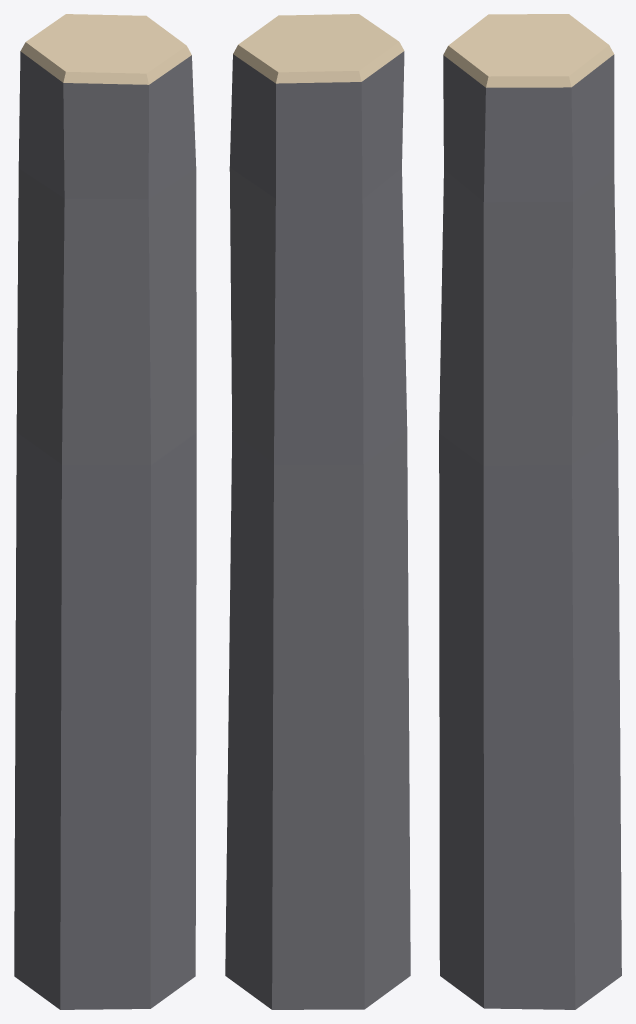
Rendered from Cave_HexColumnSand.fbx.
The picture shows the model from 3 angles, left to right: view 1: azimuth 30°, elevation 25°; view 2: azimuth 150°, elevation 25°; view 3: azimuth 270°, elevation 25°; orthographic projection.
Parts seen in each view (by area): view 1: Cave_HexColumnSand; view 2: Cave_HexColumnSand; view 3: Cave_HexColumnSand.
Part boxes in pixels (x1,y1,x2,y2): Cave_HexColumnSand: [14, 14, 196, 1009]; Cave_HexColumnSand: [225, 14, 410, 1009]; Cave_HexColumnSand: [439, 14, 621, 1009].
Size of the model in its own units: 1.87 by 12.02 by 2.14.
